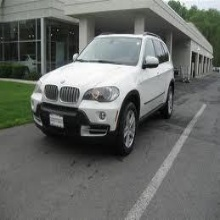no damage: (30, 31, 176, 155)
